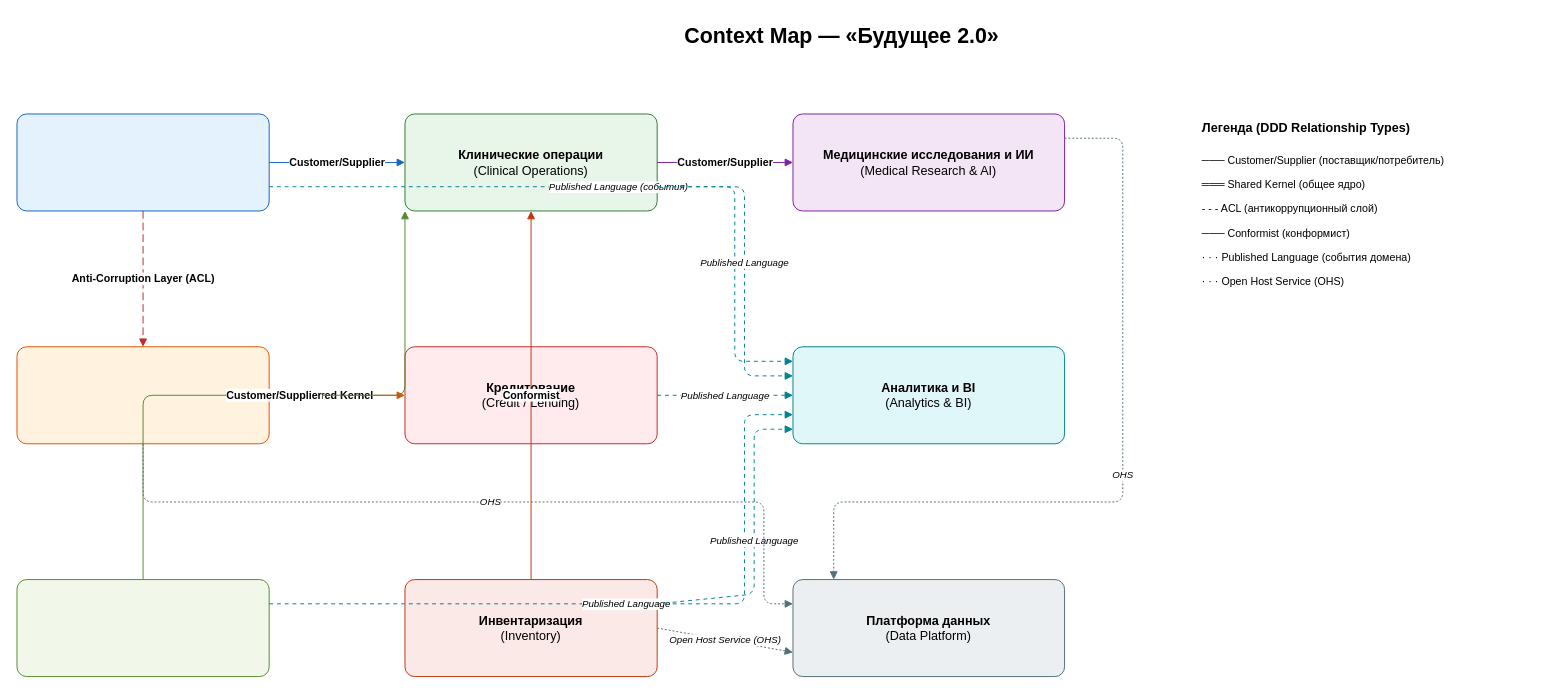
The diagram is 1557 pixels wide and 694 high, and some of its shapes have lost their labels. The shapes that lost their labels are listed below. From the top down, each one's centre as x and y in pixels, then its label:
At point (142, 162): "Управление пациентами (Patient Management)".
At point (142, 395): "Финансовые операции (Financial Operations)".
At point (142, 628): "Управление персоналом (HR / Personnel)".
